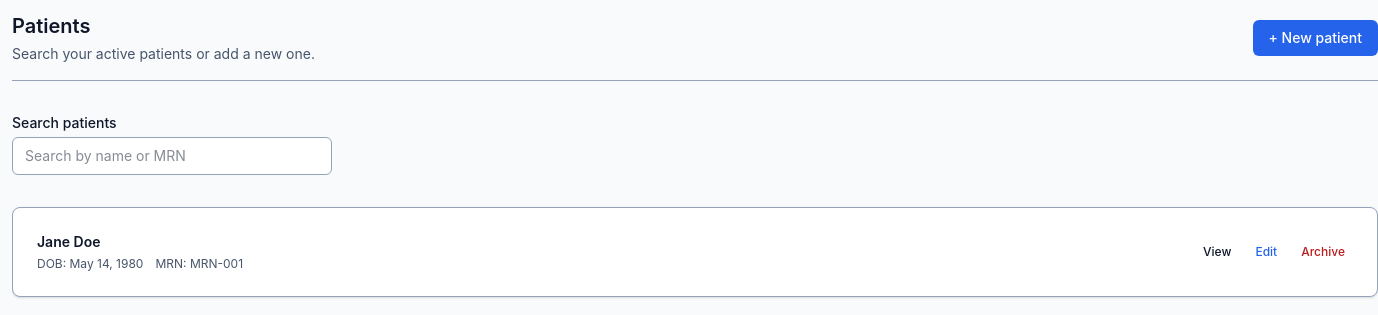
Test case: PatientsPage › shows a no-results message, distinct from the empty state, when a search matches nothing
Check: the link "Jane Doe" is shown, box left=37, top=233, right=100, bottom=250
Type "nonexistent" into the search field labelled "Search patients" at [172, 156], box left=12, top=137, right=332, bottom=175
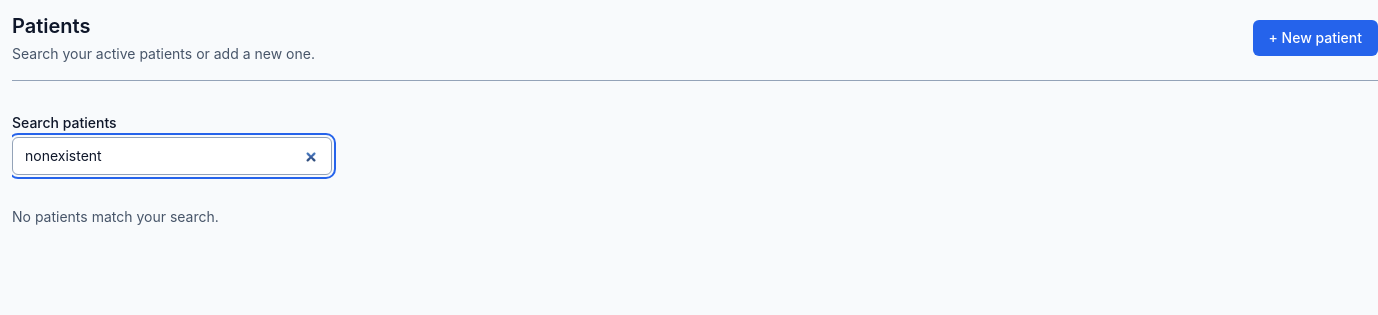
Check: the text "No patients match your search." is shown, box left=12, top=208, right=219, bottom=225
